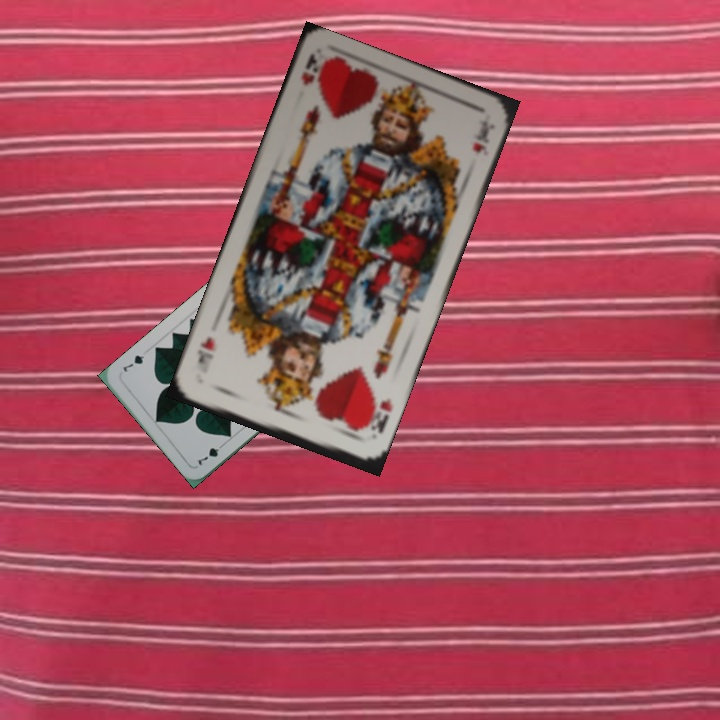G7: (193, 439, 228, 469)
HK: (359, 392, 396, 436), (296, 50, 328, 88)
